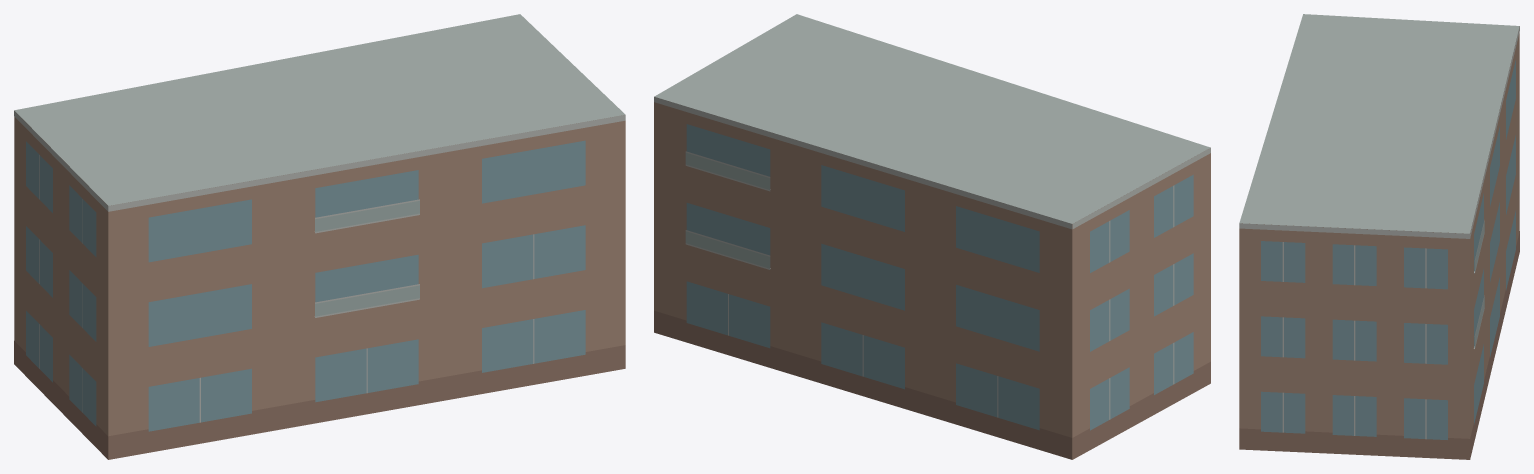
File: survey-upis-32832591.glb
3 renders of one model, left to right at view 1: azimuth 30°, elevation 25°; view 2: azimuth 150°, elevation 25°; view 3: azimuth 270°, elevation 25°, orthographic. The views are drawn at different scales.
Parts seen in each view (by area): view 1: survey-upis-32832591.tmp; view 2: survey-upis-32832591.tmp; view 3: survey-upis-32832591.tmp.
Part boxes in pixels (bbox=[...]): survey-upis-32832591.tmp: bbox=[14, 14, 625, 459]; survey-upis-32832591.tmp: bbox=[654, 14, 1210, 459]; survey-upis-32832591.tmp: bbox=[1239, 14, 1519, 459].
Size of the model in its own units: 21.89 by 10.5 by 11.81.
